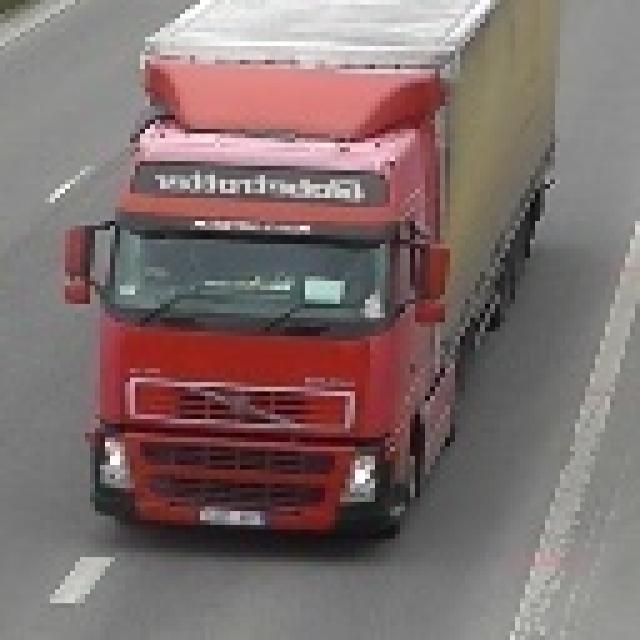TRUCK: (65, 0, 555, 534)
